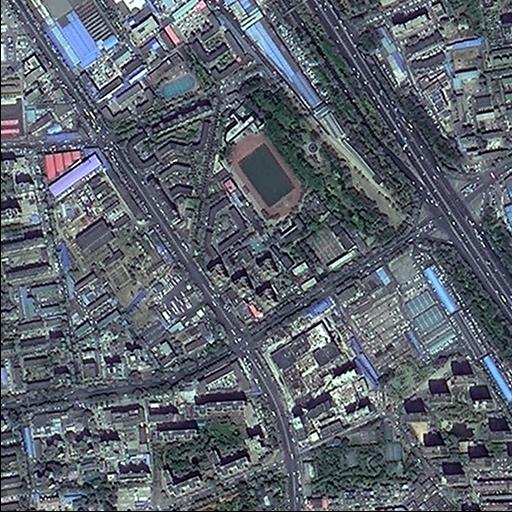school: (212, 95, 355, 276), (144, 48, 205, 103)
